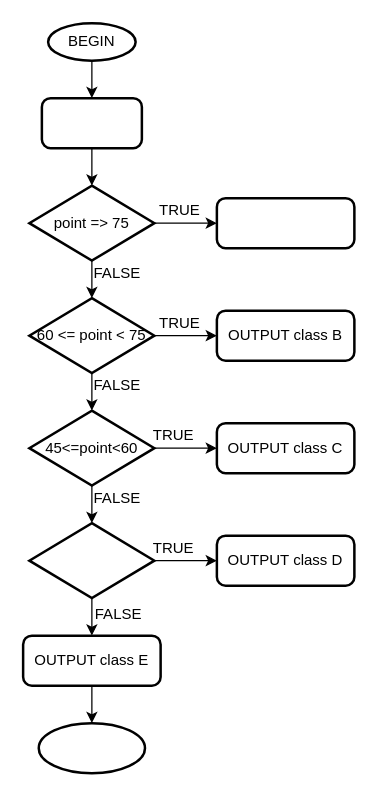
This 376x795 diagram has some shape labels left out. The centre of each missing label's shape, as x and y in pixels:
35<=point<45: pixel 91 560
END: pixel 91 747
INPUT point: pixel 91 122
OUTPUT class A: pixel 285 222
